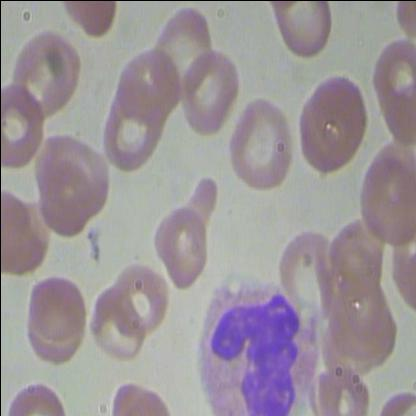RBC: (150, 169, 226, 289), (6, 23, 84, 123), (294, 72, 366, 176), (228, 90, 296, 196), (17, 272, 90, 362), (39, 148, 103, 237), (99, 82, 163, 170), (357, 146, 415, 242), (177, 46, 240, 134), (88, 280, 145, 362), (269, 1, 332, 62)
WBC: (192, 272, 322, 416)
